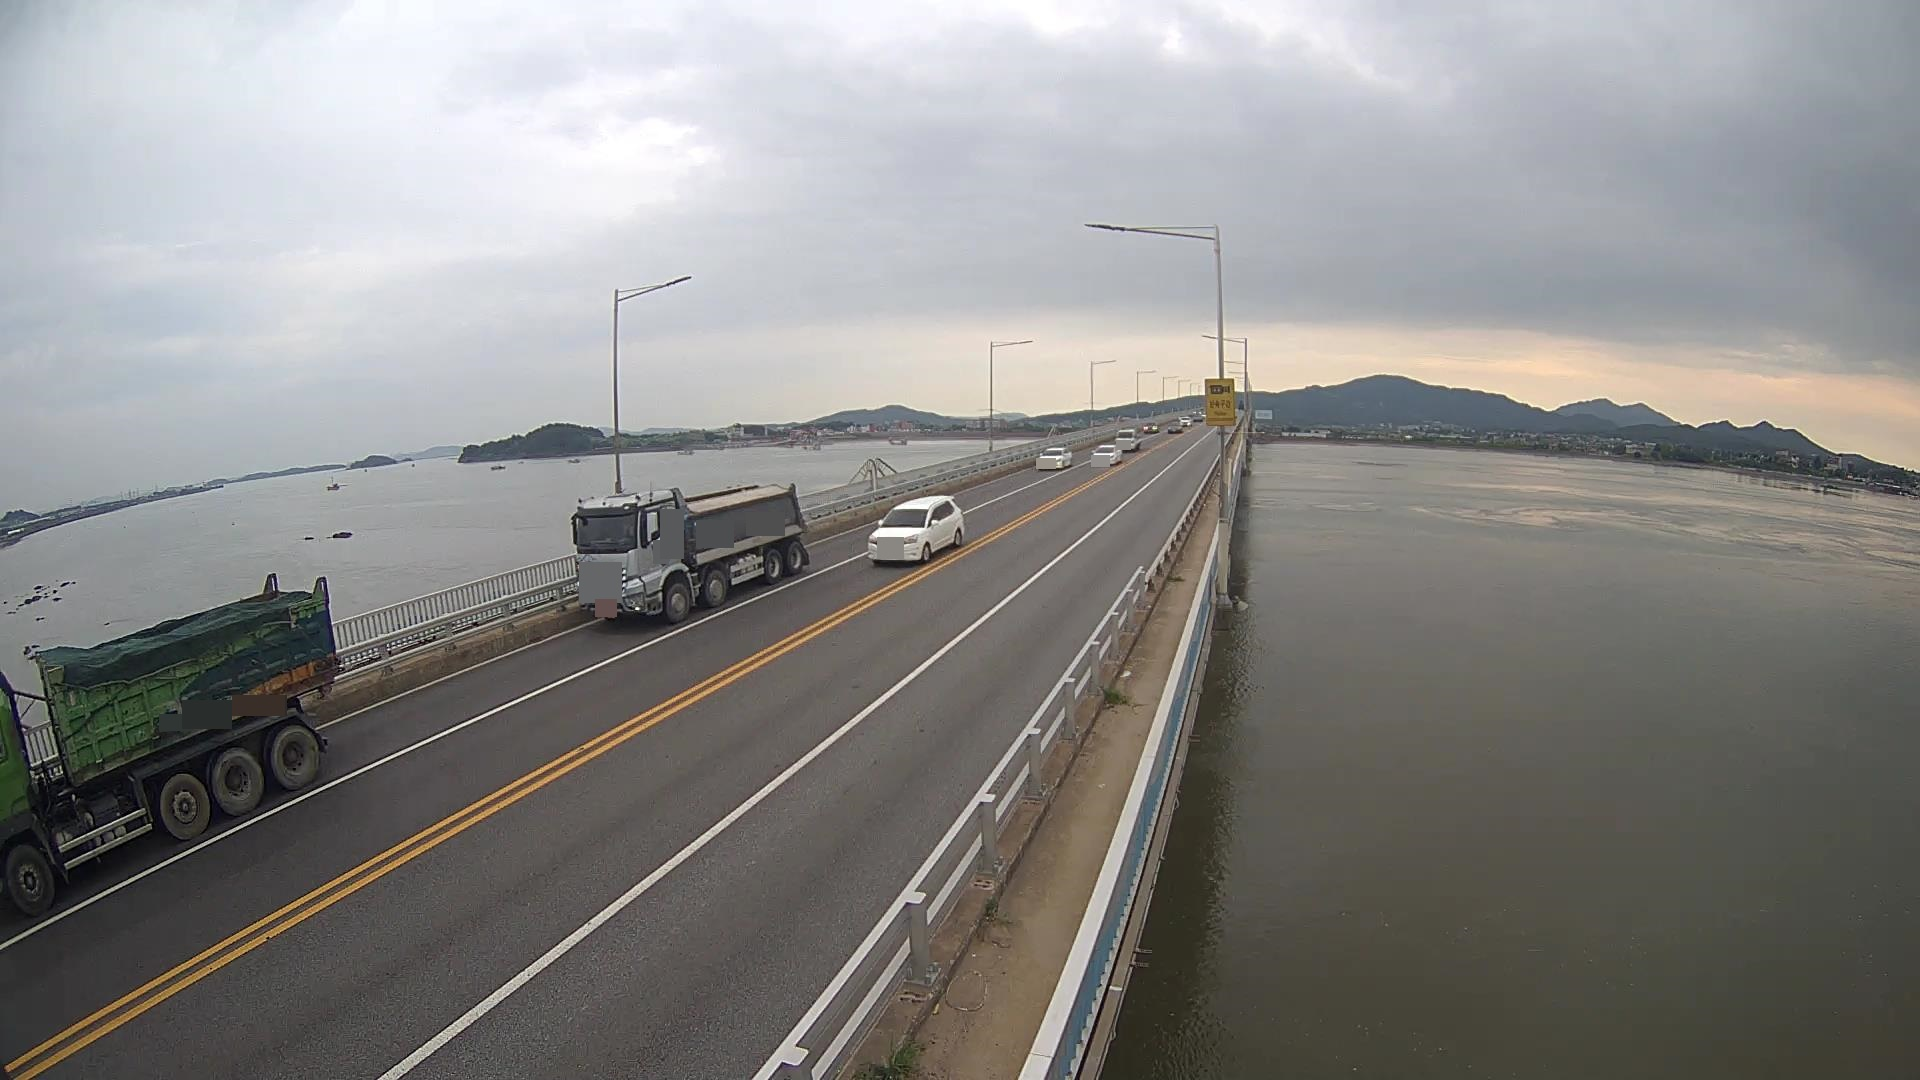정상차량: (570, 482, 810, 623)
